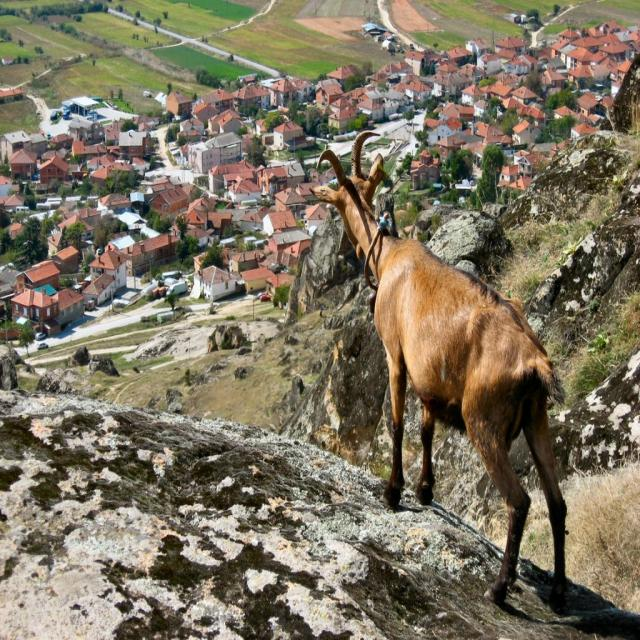Goat: (309, 131, 568, 613)
